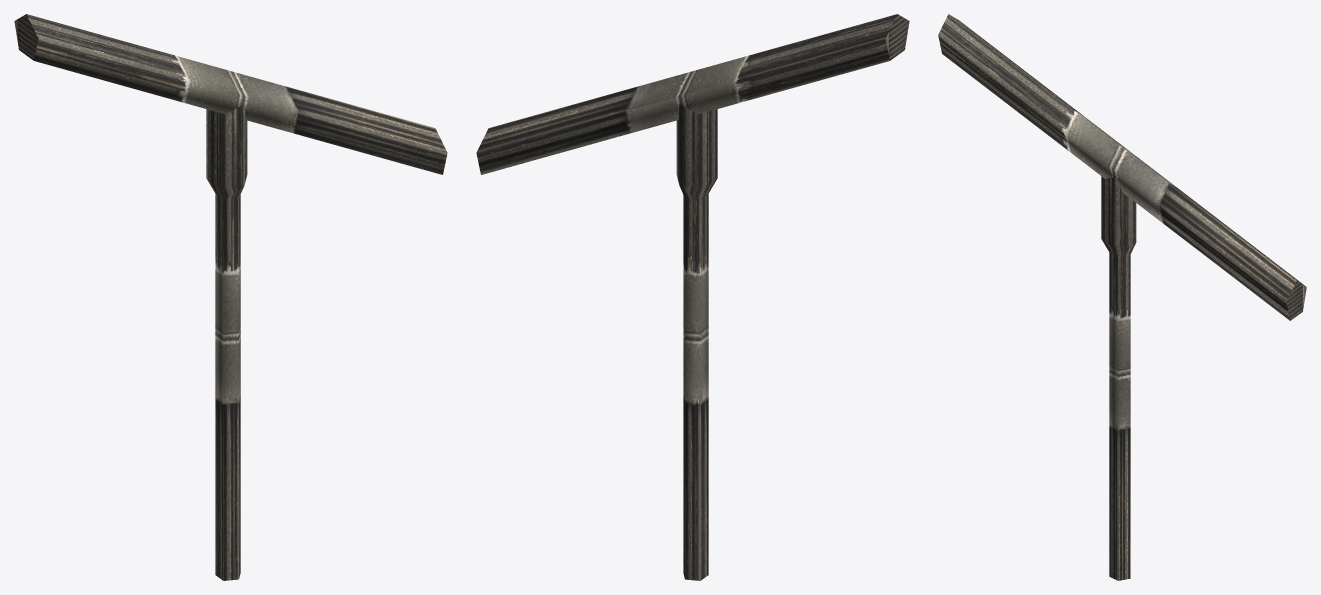
File: SM_railing_b_diagonal_200.fbx
The picture shows the model from 3 angles, left to right: view 1: azimuth 30°, elevation 25°; view 2: azimuth 150°, elevation 25°; view 3: azimuth 330°, elevation 25°; orthographic projection. The views are drawn at different scales.
Visible parts, largest first — view 1: roomBlocks_railing_steel_diagonal; view 2: roomBlocks_railing_steel_diagonal; view 3: roomBlocks_railing_steel_diagonal.
Part boxes in pixels (x1=…): roomBlocks_railing_steel_diagonal: x1=14, y1=14, x2=447, y2=580; roomBlocks_railing_steel_diagonal: x1=476, y1=14, x2=909, y2=580; roomBlocks_railing_steel_diagonal: x1=938, y1=14, x2=1306, y2=580.
Bounding box in the file's own units: 1 × 1.43 × 0.1019.
